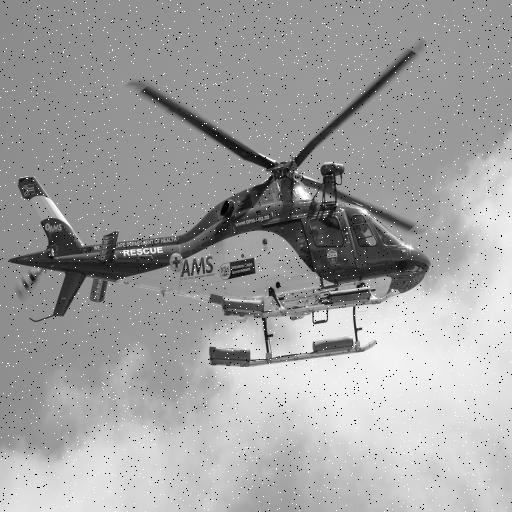helicopter: (13, 36, 433, 367)
